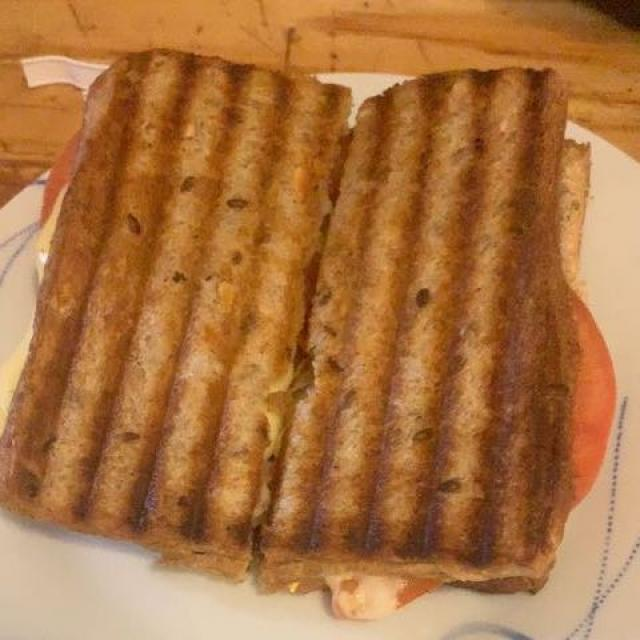croque-monsieur: (15, 53, 598, 582)
tomato-raw: (572, 301, 612, 499)
